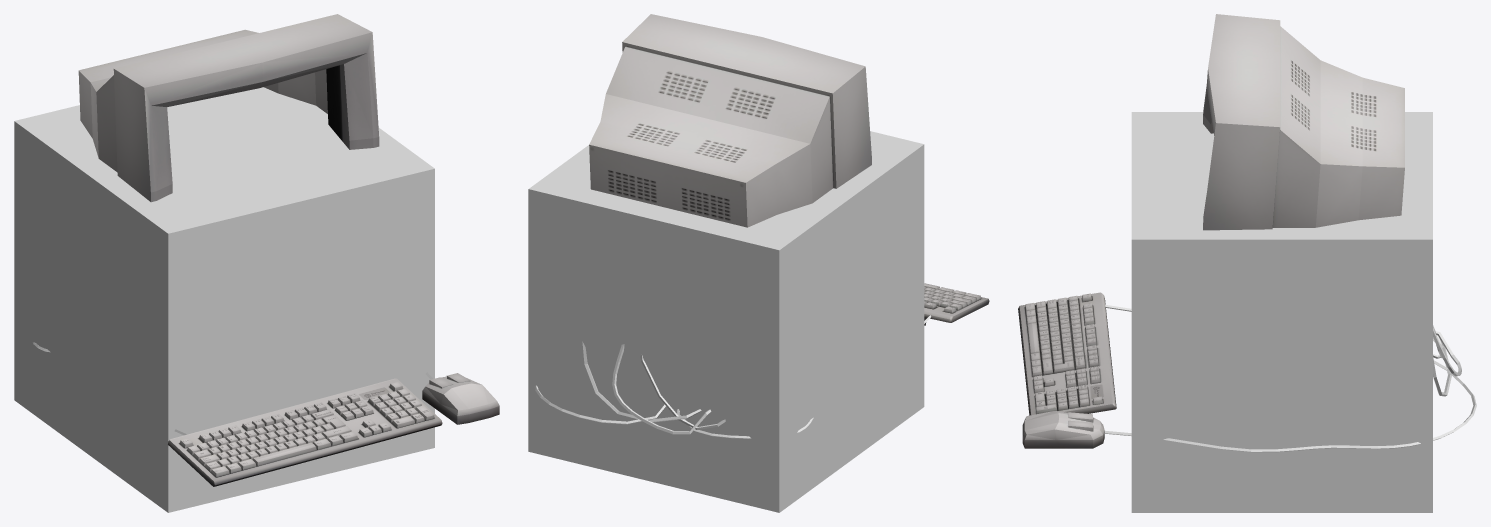
Rendered from computer_setup.glb.
3 views of the same model, side by side, from view 1: azimuth 30°, elevation 25°; view 2: azimuth 150°, elevation 25°; view 3: azimuth 270°, elevation 25° (orthographic). The views are drawn at different scales.
Visible parts, largest first — view 1: Cube, monitor_base, keyboard, mouse; view 2: Cube, monitor_base, cables, keyboard; view 3: Cube, monitor_base, keyboard, mouse, cables.
Part boxes in pixels (x1,y1,x2,y2): Cube: [14, 87, 434, 512]; monitor_base: [78, 14, 379, 202]; keyboard: [168, 378, 442, 486]; mouse: [422, 373, 499, 424]; Cube: [528, 131, 924, 512]; monitor_base: [589, 14, 871, 227]; cables: [534, 315, 931, 438]; keyboard: [924, 283, 989, 325]; Cube: [1131, 112, 1432, 512]; monitor_base: [1203, 14, 1404, 230]; keyboard: [1018, 292, 1116, 415]; mouse: [1022, 411, 1104, 448]; cables: [1104, 304, 1476, 452].
Bounding box in the file's own units: 2.24 × 2.79 × 3.04.
4 materials, 3 textured.
